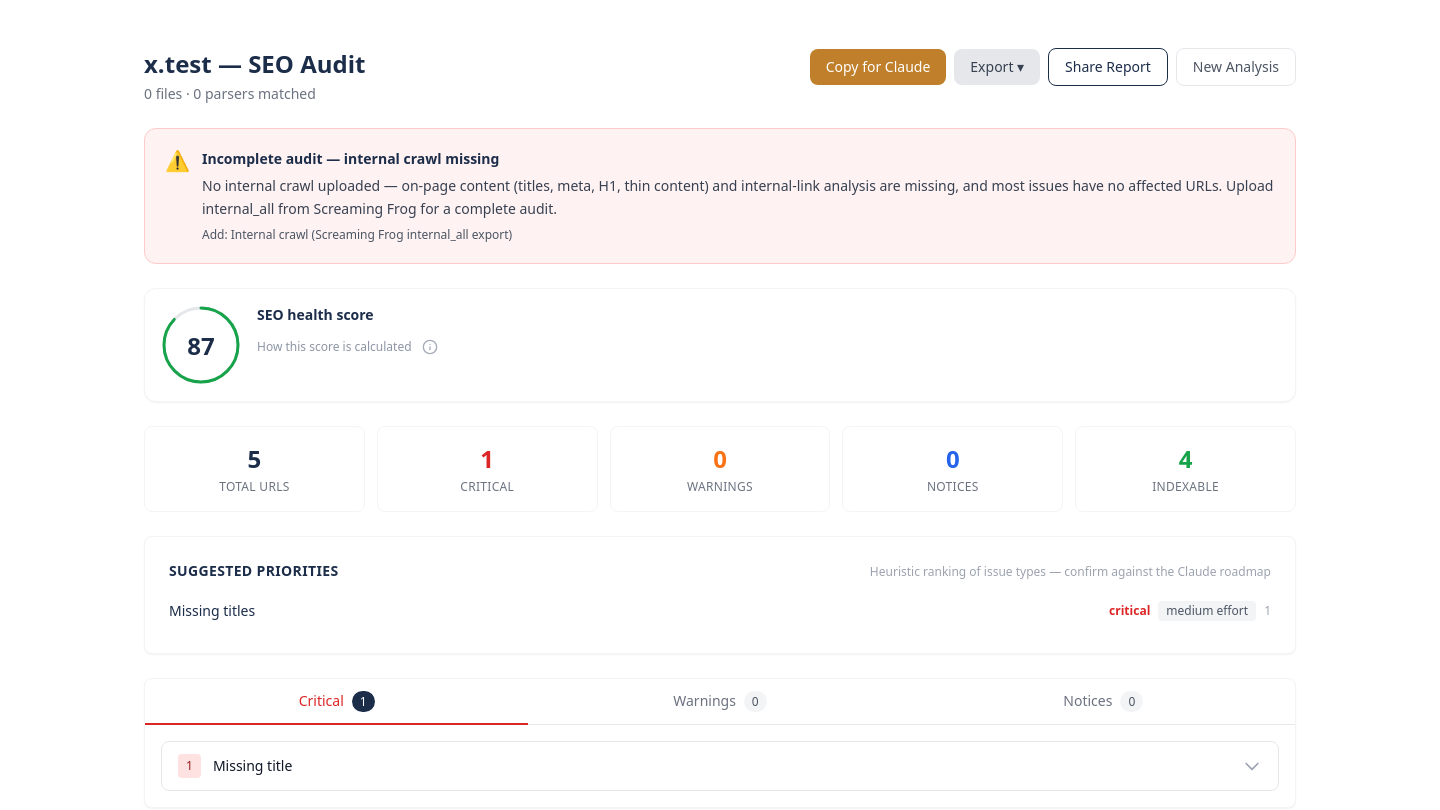
Test case: ResultsView health-score card › renders a ScoreRing with the value and keeps the score explanation when healthScore is set
Expected: the picture named "score 87" is shown, [161,304,241,384]
Expected: the text "SEO health score" is shown, [257,304,374,324]
What coordinates should you click on to do the following:
click the button named "How this score is calculated"
I would click on:
 (430, 346)
Its box is [416,332,444,360].
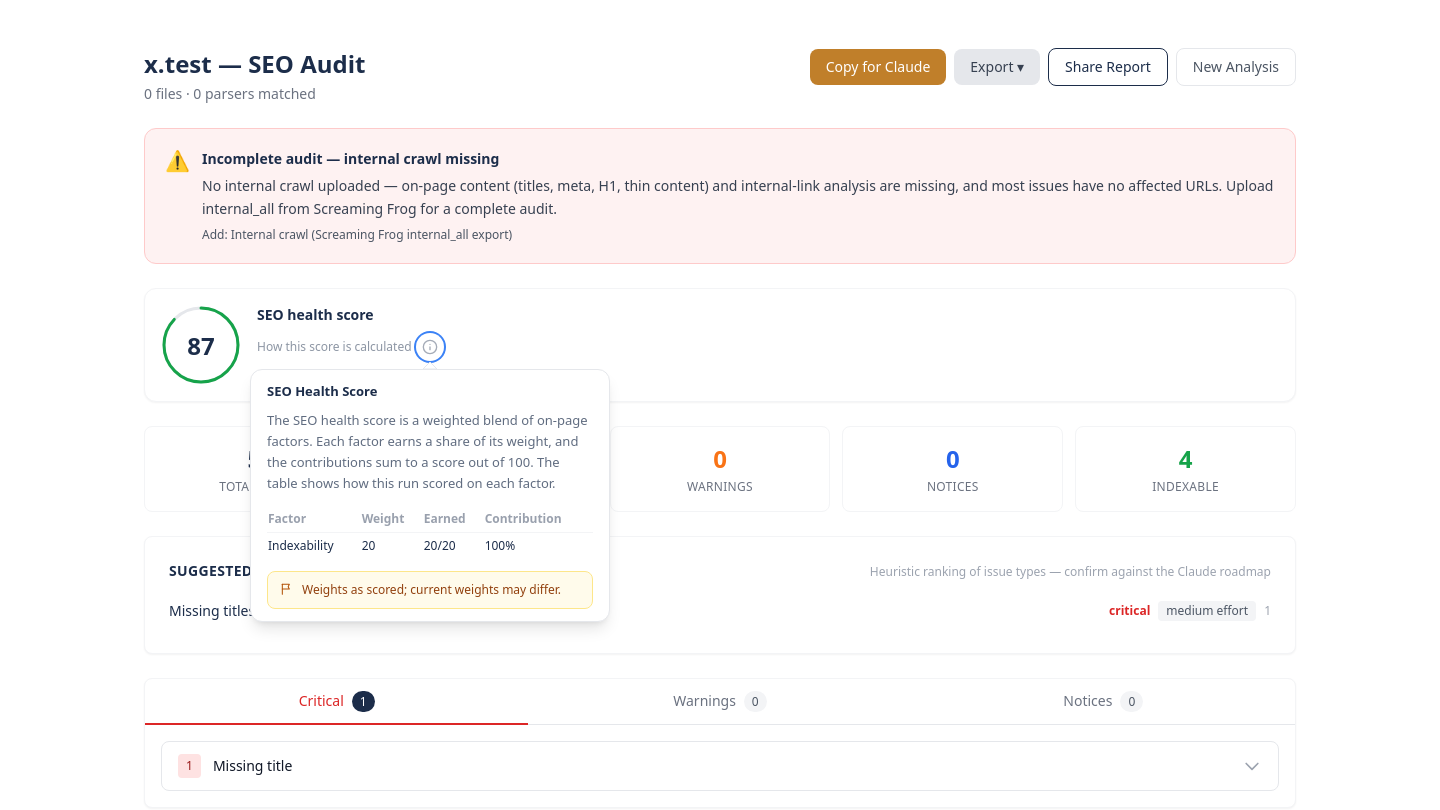
Result: the tooltip is shown at [250,369,610,622]
Result: the text "Indexability" is shown at [267,532,361,559]
